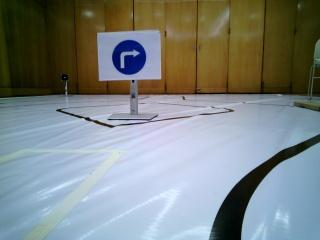right: (95, 31, 162, 78)
